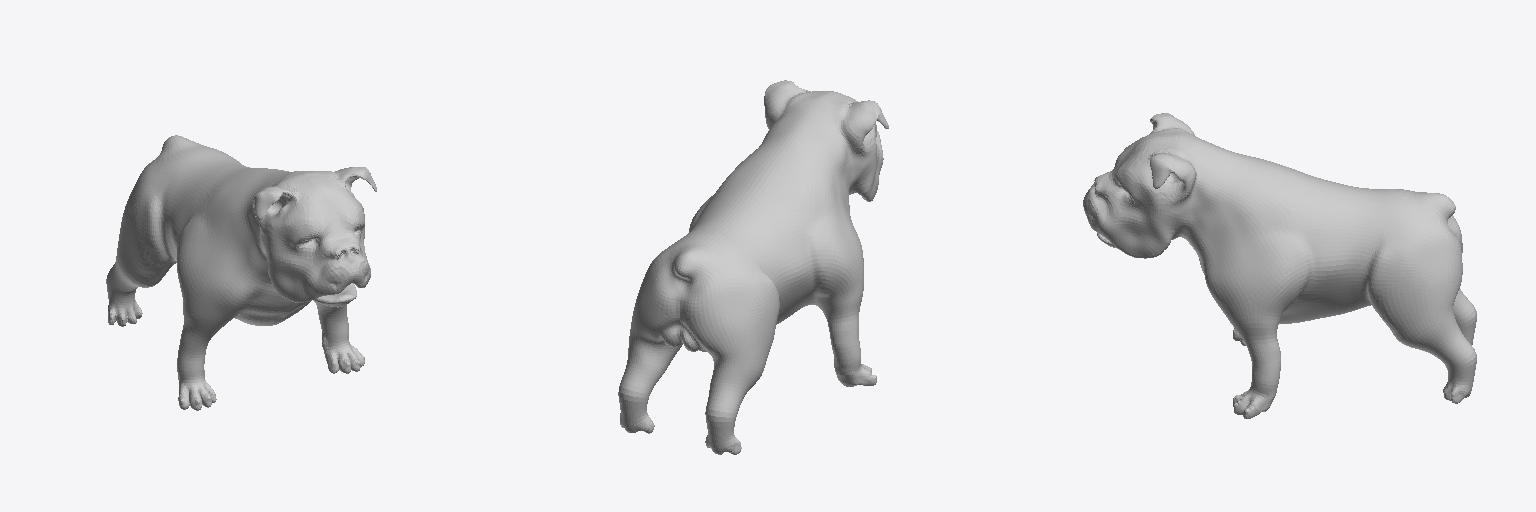
Rendered from uploads_files_2454591_Buldog+2.OBJ.
3 renders of one model, left to right at view 1: azimuth 30°, elevation 25°; view 2: azimuth 150°, elevation 25°; view 3: azimuth 270°, elevation 25°, orthographic.
Parts seen in each view (by area): view 1: Group32019; view 2: Group32019; view 3: Group32019.
Part boxes in pixels (left/top/right/bottom): Group32019: left=106, top=135, right=376, bottom=410; Group32019: left=618, top=80, right=888, bottom=454; Group32019: left=1083, top=113, right=1476, bottom=418.
Size of the model in its own units: 2.36 by 2.94 by 4.37.